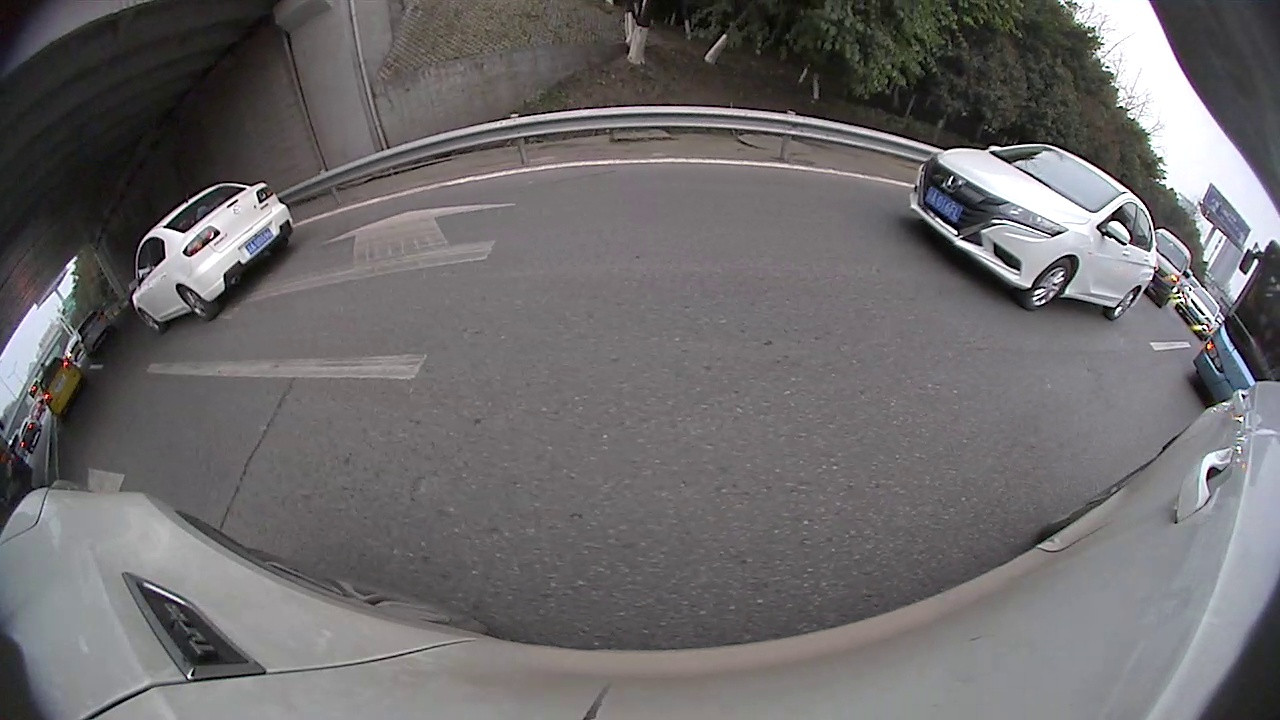bus: (1192, 241, 1279, 405)
car: (907, 142, 1155, 321), (132, 182, 295, 331), (36, 359, 88, 422), (1151, 229, 1191, 303), (1174, 287, 1223, 339)
front: (1022, 252, 1072, 314), (137, 306, 167, 335)
rear: (178, 282, 220, 322), (1109, 285, 1139, 321)
